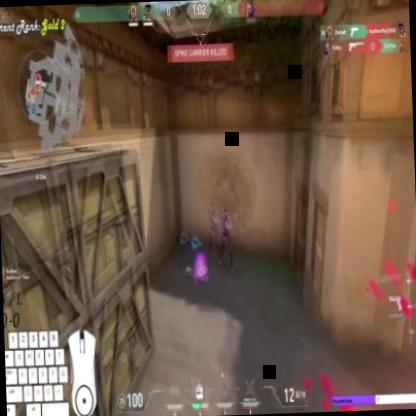enemy: (217, 208, 234, 269)
enemy_head: (224, 210, 229, 221)
